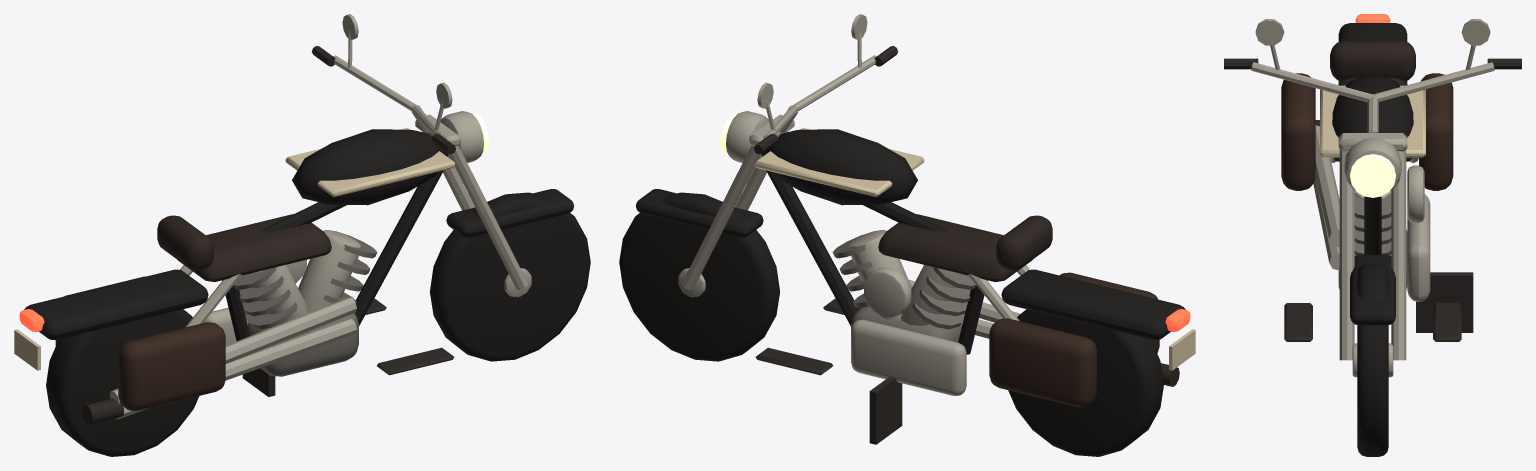
File: motorbike_cruiser_black.glb
3 views of the same model, side by side, from view 1: azimuth 30°, elevation 25°; view 2: azimuth 150°, elevation 25°; view 3: azimuth 270°, elevation 25° (orthographic). The views are drawn at different scales.
Parts seen in each view (by area): view 1: MotoCruiser, MotoCruiser_Wheel_F, MotoCruiser_Wheel_R; view 2: MotoCruiser, MotoCruiser_Wheel_F, MotoCruiser_Wheel_R; view 3: MotoCruiser, MotoCruiser_Wheel_F.
Part boxes in pixels (bbox=[...]): MotoCruiser: bbox=[14, 14, 573, 424]; MotoCruiser_Wheel_F: bbox=[430, 192, 590, 361]; MotoCruiser_Wheel_R: bbox=[46, 309, 199, 456]; MotoCruiser: bbox=[636, 14, 1195, 444]; MotoCruiser_Wheel_F: bbox=[619, 192, 779, 361]; MotoCruiser_Wheel_R: bbox=[1008, 309, 1163, 456]; MotoCruiser: bbox=[1224, 14, 1521, 360]; MotoCruiser_Wheel_F: bbox=[1352, 263, 1393, 456].
Bounding box in the file's own units: 2.49 × 1.42 × 1.04.
